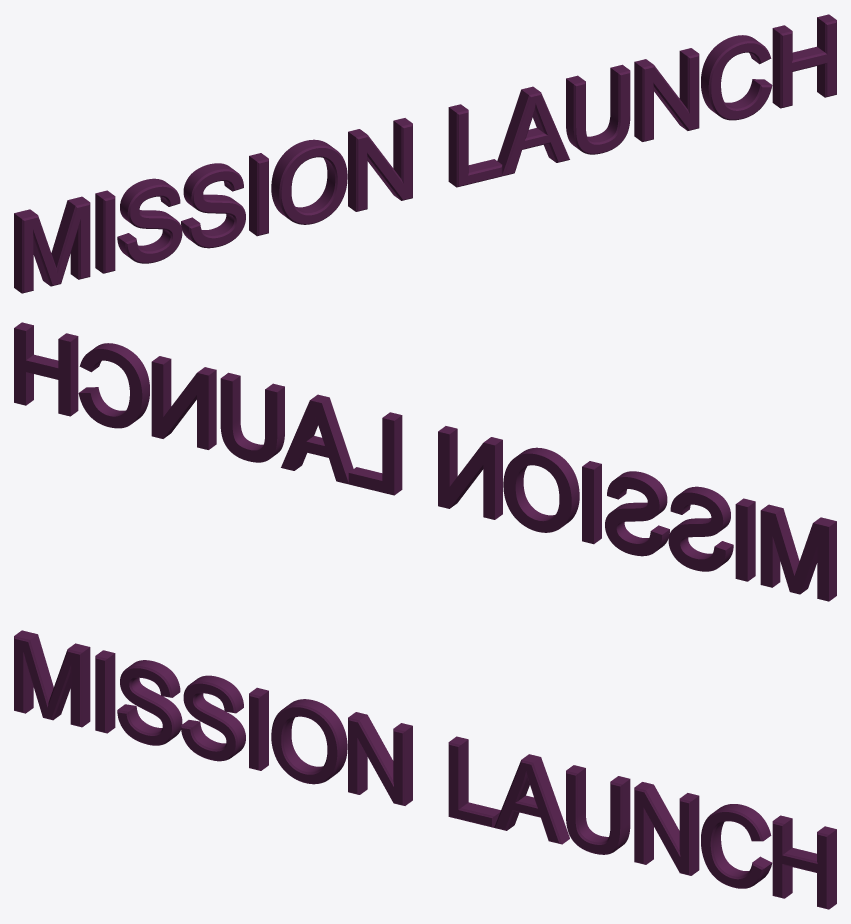
Rendered from Launch-transformed.glb.
3 views of the same model, one above another, from view 1: azimuth 30°, elevation 25°; view 2: azimuth 150°, elevation 25°; view 3: azimuth 330°, elevation 25° (orthographic).
Visible parts, largest first — view 1: TextPlus001; view 2: TextPlus001; view 3: TextPlus001.
Boxes of the visible parts, bbox=[...] form: TextPlus001: bbox=[14, 14, 836, 293]; TextPlus001: bbox=[14, 322, 836, 601]; TextPlus001: bbox=[14, 630, 836, 909].
Bounding box in the file's own units: 6.8 × 0.6148 × 0.127.
